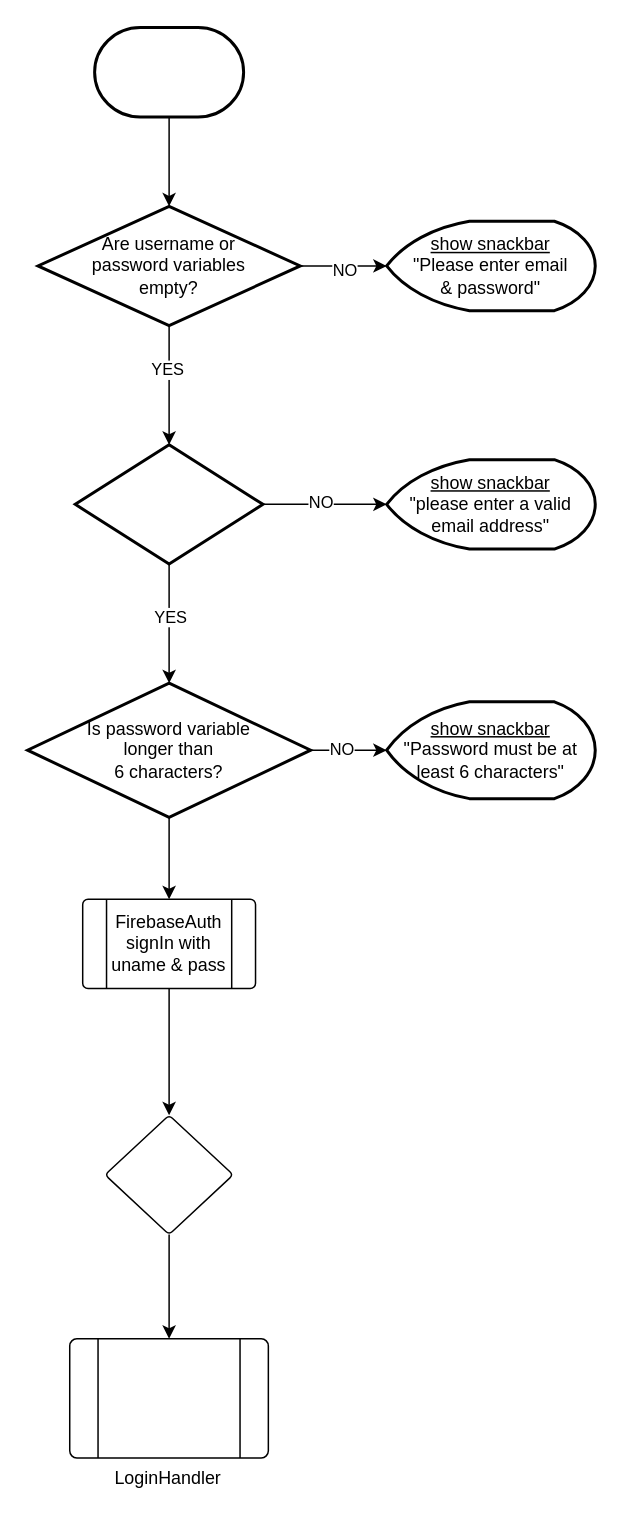
Image size: 621x1514. Some labels were removed from this diagram. The shapes that lost their labels are listed below. From the top down, each one's centre as x and y in pixels, then its label:
At point 168,71: "Start".
At point 168,504: "Does email match RegEx?".
At point 168,1174: "Is a user logged in?".
